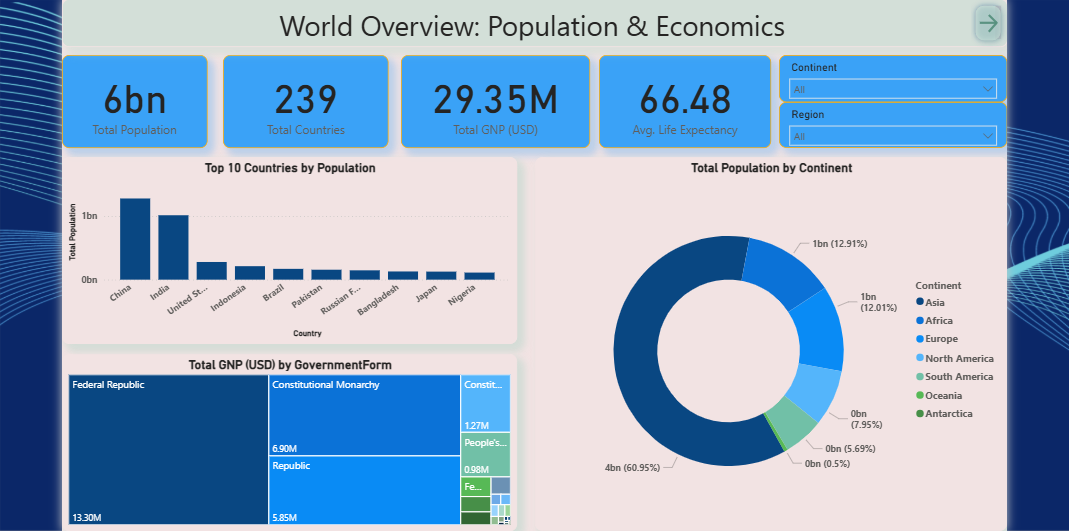

What the dashboard file says about the page in this screenshot:
{"tool":"powerbi","page":{"name":"Country Dashboard","canvas":[1280,720],"ordinal":1},"visuals":[{"type":"card","fields":{"Values":["Key Measure.Total Population"]},"box":[0,75.2,196.6,125.8],"z":0},{"type":"card","fields":{"Values":["Key Measure.Total Countries"]},"box":[218.3,75.2,224.1,125.8],"z":1000},{"type":"card","fields":{"Values":["Key Measure.Total GNP (USD)"]},"box":[458.3,75.2,255.9,125.8],"z":2000},{"type":"card","fields":{"Values":["Key Measure.Avg. Life Expectancy"]},"box":[727.2,75.2,232.8,125.8],"z":3000},{"type":"clusteredColumnChart","title":"Top 10 Countries by Population","fields":{"Category":["country.Name"],"Y":["Key Measure.Total Population"]},"box":[0,214,615.9,253],"z":4000},{"type":"textbox","box":[0,0,1279.5,65.1],"z":5000},{"type":"slicer","fields":{"Values":["country.Continent"]},"box":[970.1,75.2,309.4,63.6],"z":6000},{"type":"slicer","fields":{"Values":["country.Region"]},"box":[970.1,138.8,309.4,62.2],"z":7000},{"type":"treemap","fields":{"Group":["country.GovernmentForm"],"Values":["Key Measure.Total GNP (USD)"]},"box":[0,480,615.9,240],"z":8000},{"type":"donutChart","fields":{"Category":["country.Continent"],"Y":["Key Measure.Total Population"]},"box":[640.5,214,639,506],"z":9000},{"type":"actionButton","box":[1227.5,0,52,65.1],"z":10000}]}

Visuals, with their boxes on the page's 1280x720 design canvas (x1, y1, x2, y2). These are canvas units, not pixel positions in the 1069x531 screenshot, which may show the page scaled, cropped or inside an application window:
card - Key Measure.Total Population: <box>0,75,197,201</box>
card - Key Measure.Total Countries: <box>218,75,442,201</box>
card - Key Measure.Total GNP (USD): <box>458,75,714,201</box>
card - Key Measure.Avg. Life Expectancy: <box>727,75,960,201</box>
"Top 10 Countries by Population" clusteredColumnChart: <box>0,214,616,467</box>
textbox: <box>0,0,1280,65</box>
slicer - country.Continent: <box>970,75,1280,139</box>
slicer - country.Region: <box>970,139,1280,201</box>
treemap - country.GovernmentForm x Key Measure.Total GNP (USD): <box>0,480,616,720</box>
donutChart - country.Continent x Key Measure.Total Population: <box>640,214,1280,720</box>
actionButton: <box>1228,0,1280,65</box>
